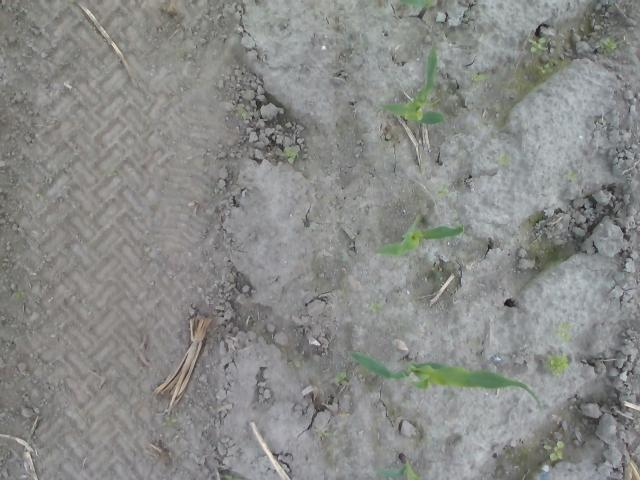Maize: (350, 350, 543, 413), (380, 47, 446, 127), (374, 211, 464, 257), (373, 451, 422, 480)
Weeds: (543, 352, 571, 376), (543, 439, 565, 460), (558, 318, 572, 342), (526, 38, 549, 52), (598, 38, 617, 50), (536, 62, 554, 74), (285, 148, 298, 164), (497, 152, 510, 166), (335, 371, 347, 386), (162, 416, 178, 427), (368, 302, 382, 314), (436, 184, 448, 196), (472, 73, 487, 81), (320, 430, 330, 437)
